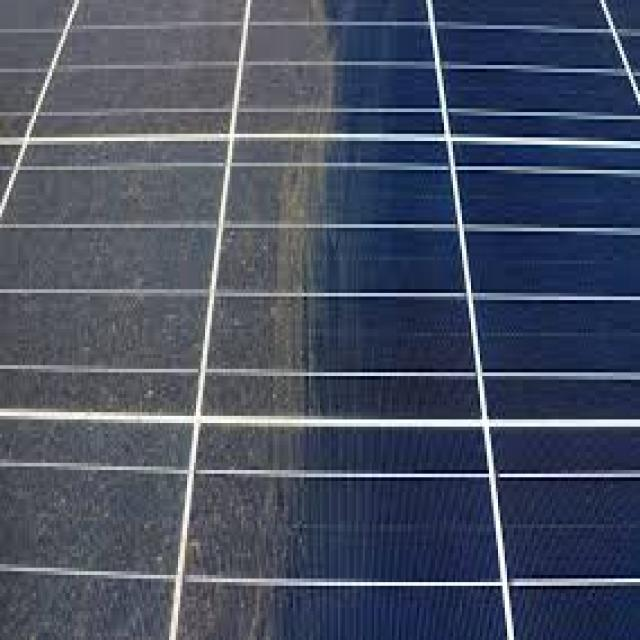clean-solar-panel: (281, 5, 640, 636)
dust-solar-panel: (0, 6, 331, 636)
